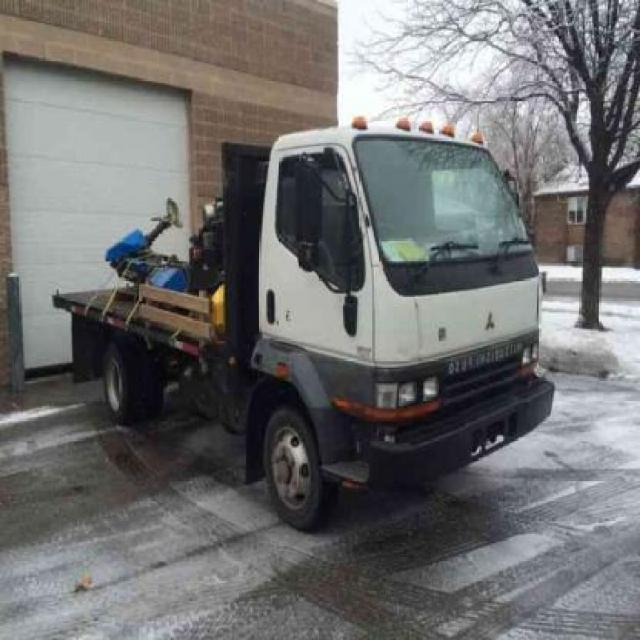truck: (56, 118, 556, 527)
